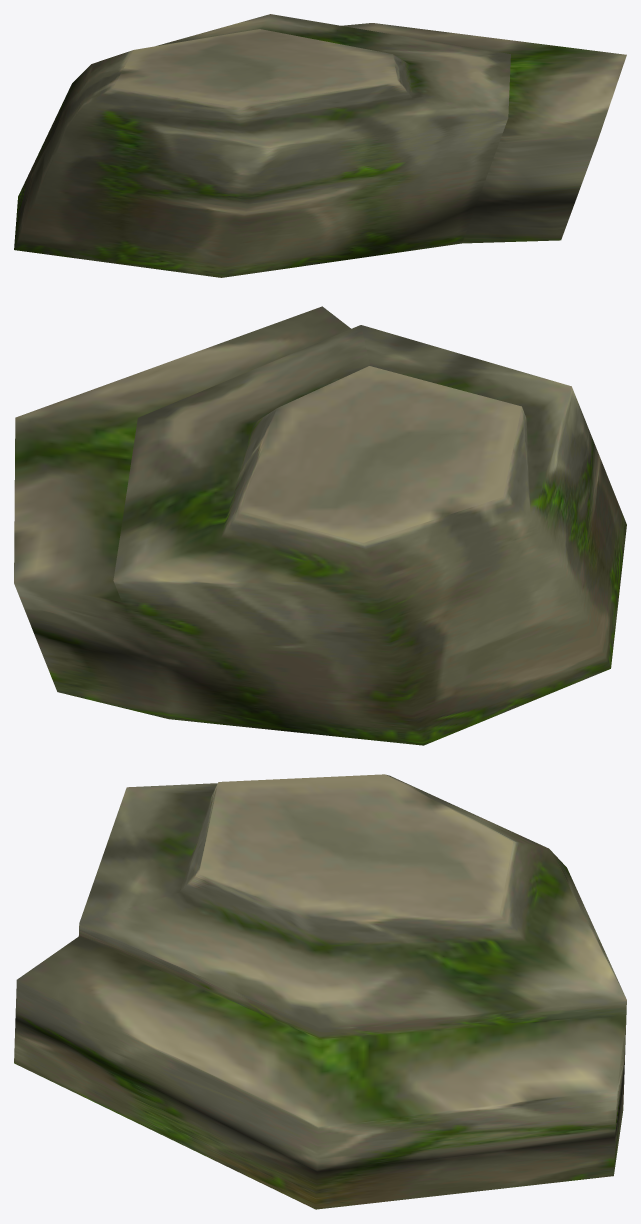
File: RockFormation_4_5 (71).fbx
3 renders of one model, top to bottom at view 1: azimuth 30°, elevation 25°; view 2: azimuth 150°, elevation 25°; view 3: azimuth 270°, elevation 25°, orthographic. The views are drawn at different scales.
Visible parts, largest first — view 1: RockFormation_4_5 (71); view 2: RockFormation_4_5 (71); view 3: RockFormation_4_5 (71).
Boxes of the visible parts, bbox=[...] form: RockFormation_4_5 (71): bbox=[14, 14, 626, 277]; RockFormation_4_5 (71): bbox=[14, 306, 626, 745]; RockFormation_4_5 (71): bbox=[14, 774, 626, 1209].
Size of the model in its own units: 217 by 73.69 by 169.
Materials: 1 (1 with a texture image).
